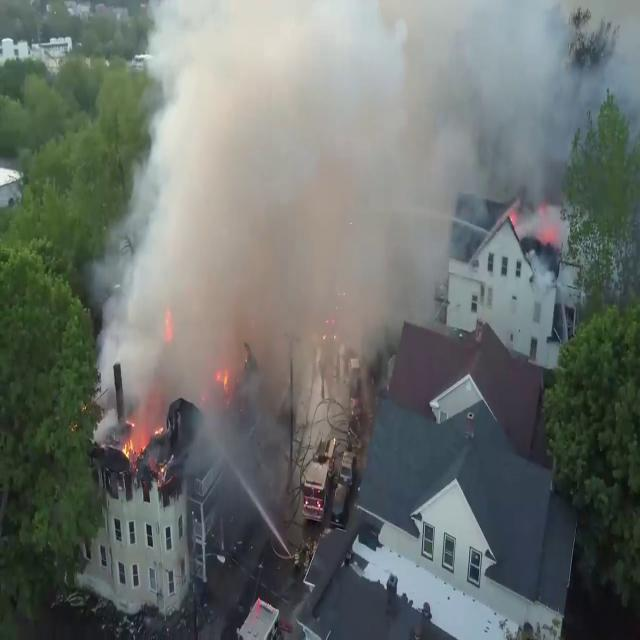Smoke: (94, 0, 606, 484)
